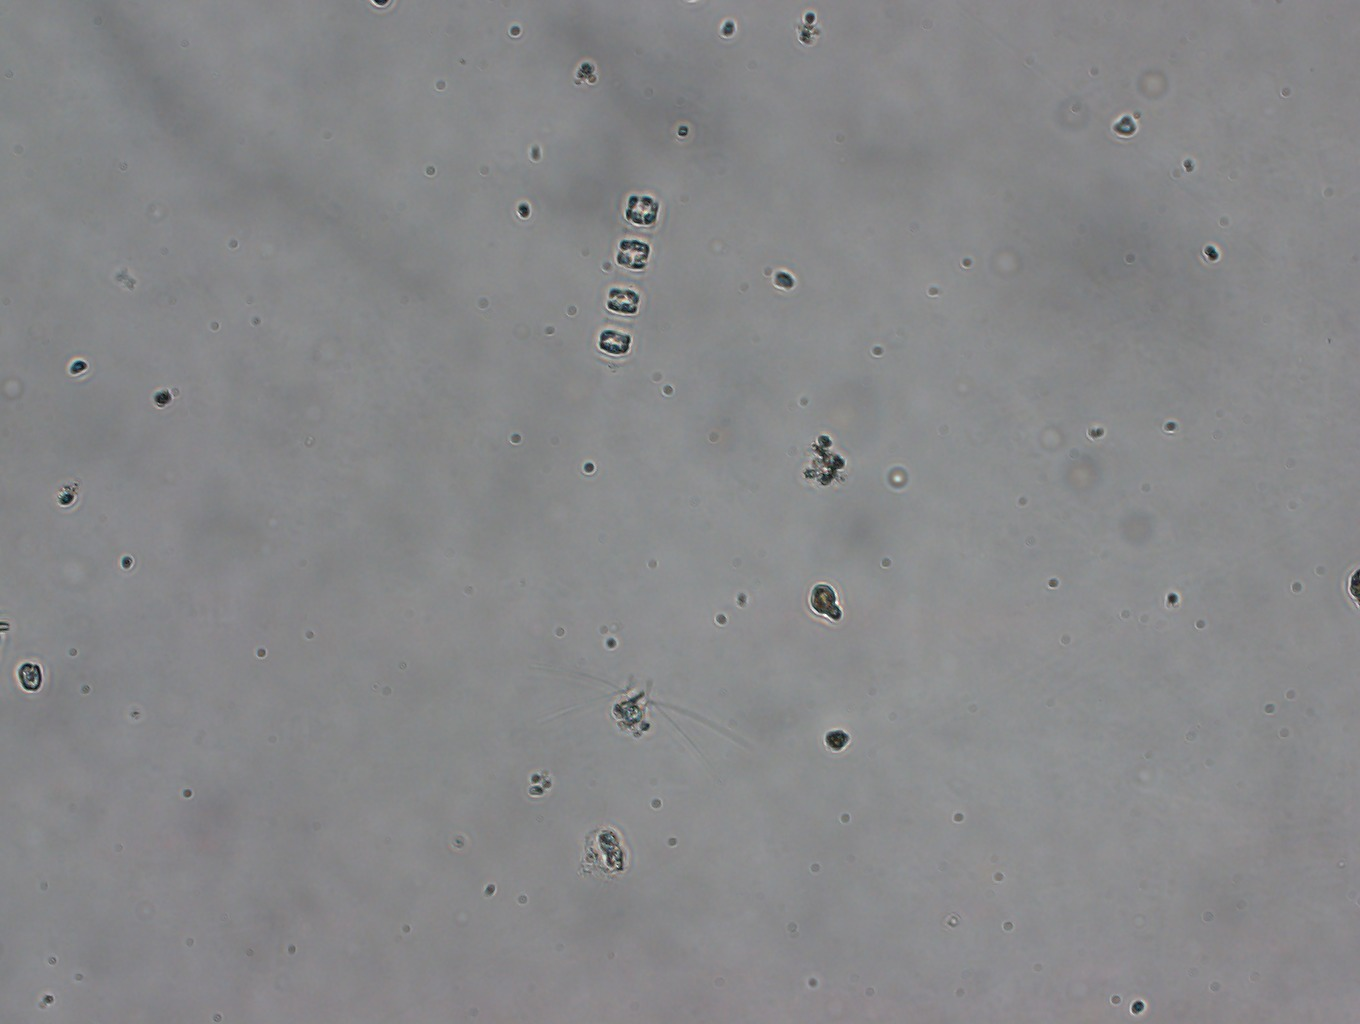chaetoceros: (510, 649, 756, 790)
skeletonema: (574, 173, 674, 369)
